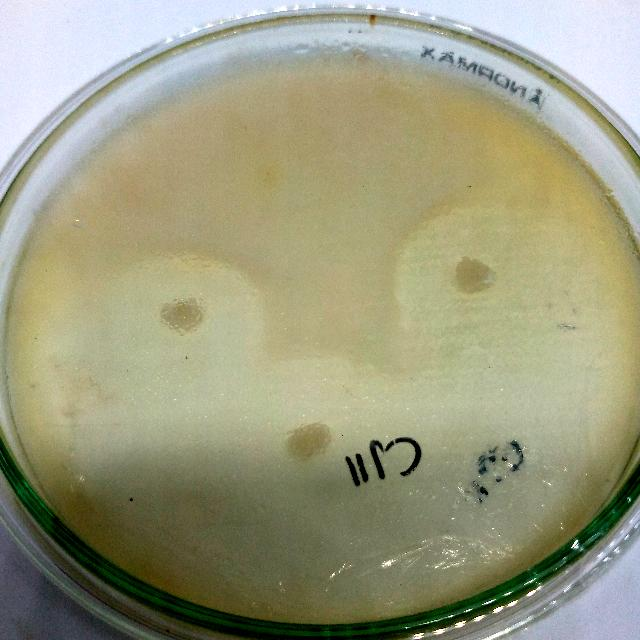colony: (156, 288, 208, 344), (282, 418, 336, 467), (452, 252, 501, 302)
